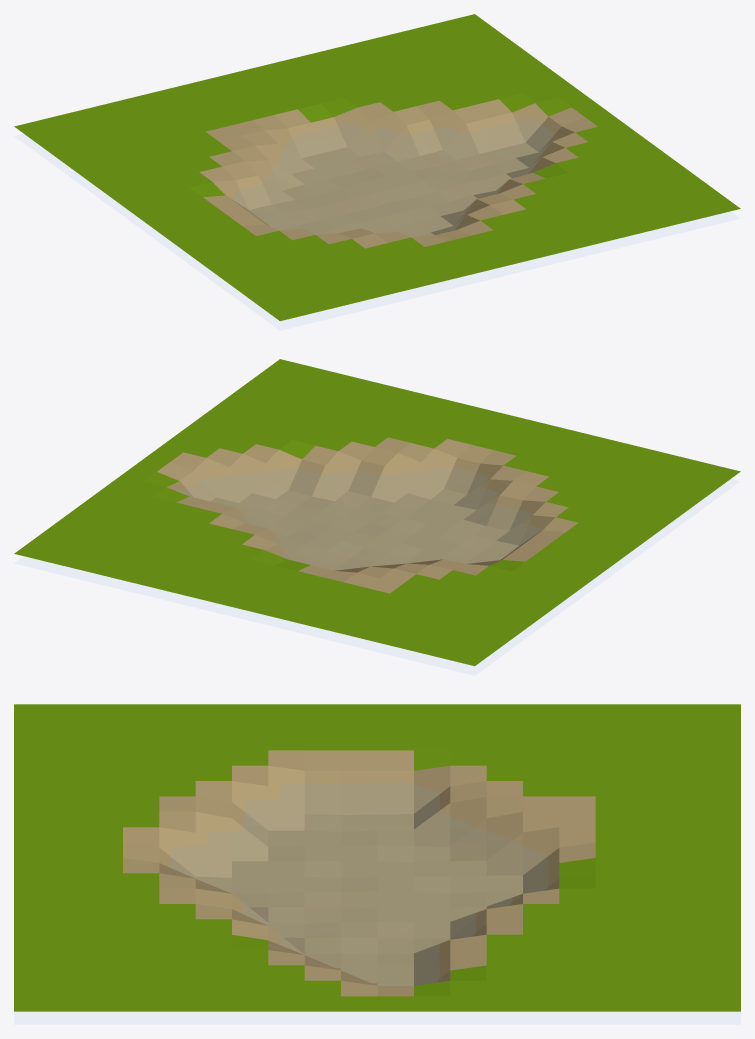
The model's file is Lake1.fbx.
3 views of the same model, one above another, from view 1: azimuth 30°, elevation 25°; view 2: azimuth 150°, elevation 25°; view 3: azimuth 270°, elevation 25° (orthographic). The views are drawn at different scales.
Visible parts, largest first — view 1: Lake1Ground; view 2: Lake1Ground; view 3: Lake1Ground.
Boxes of the visible parts, x1,y1,x2,y2 form: Lake1Ground: (14,14,740,321); Lake1Ground: (14,359,740,666); Lake1Ground: (14,704,740,1011).
Bounding box in the file's own units: 2000 × 107 × 2000.
